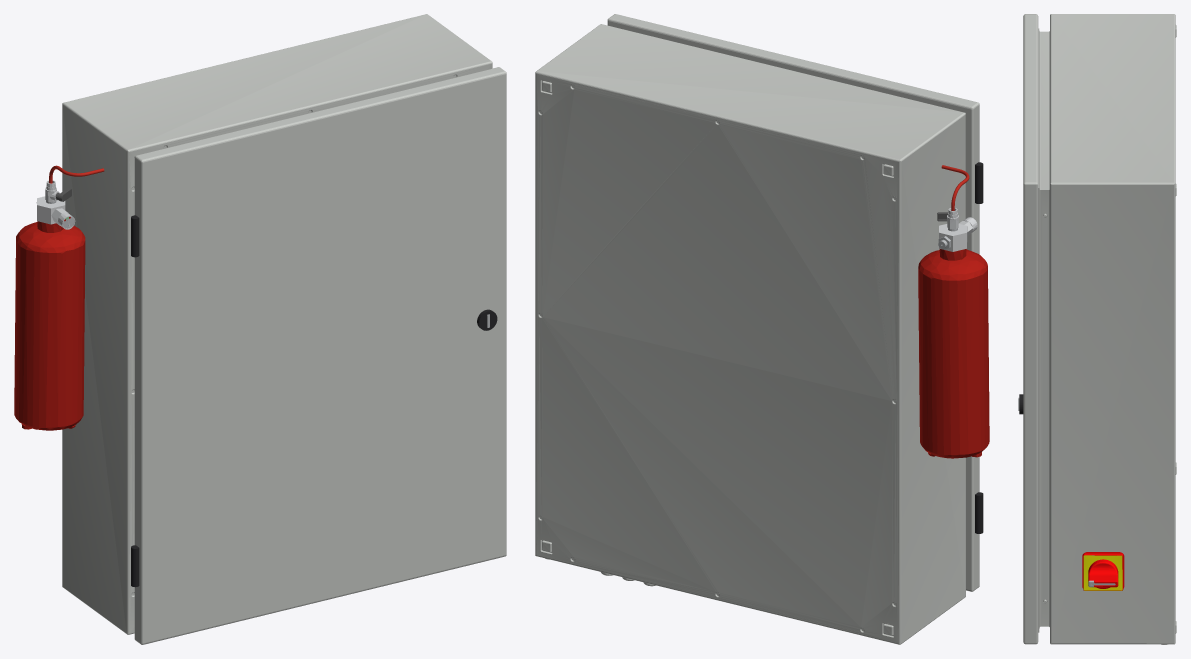
File: riteline-box-2kg.glb
The picture shows the model from 3 angles, left to right: view 1: azimuth 30°, elevation 25°; view 2: azimuth 150°, elevation 25°; view 3: azimuth 270°, elevation 25°; orthographic projection. The views are drawn at different scales.
Parts seen in each view (by area): view 1: Riteline_Door, RL_Generic_061, RL_Cylinder, RL_Valve; view 2: RL_Generic_061, RL_Cylinder, Riteline_Door, RL_Valve; view 3: RL_Generic_061, Riteline_Door, RL_Generic_018.
Boxes of the visible parts, x1=… form: Riteline_Door: x1=134, y1=67, x2=506, y2=644; RL_Generic_061: x1=62, y1=14, x2=492, y2=634; RL_Cylinder: x1=14, y1=221, x2=85, y2=430; RL_Valve: x1=36, y1=180, x2=75, y2=229; RL_Generic_061: x1=535, y1=24, x2=965, y2=644; RL_Cylinder: x1=918, y1=249, x2=989, y2=458; Riteline_Door: x1=607, y1=14, x2=979, y2=591; RL_Valve: x1=937, y1=208, x2=977, y2=251; RL_Generic_061: x1=1038, y1=14, x2=1176, y2=644; Riteline_Door: x1=1023, y1=14, x2=1038, y2=644; RL_Generic_018: x1=1082, y1=552, x2=1124, y2=590.
Bounding box in the file's own units: 0.7506 × 0.789 × 0.2363.
